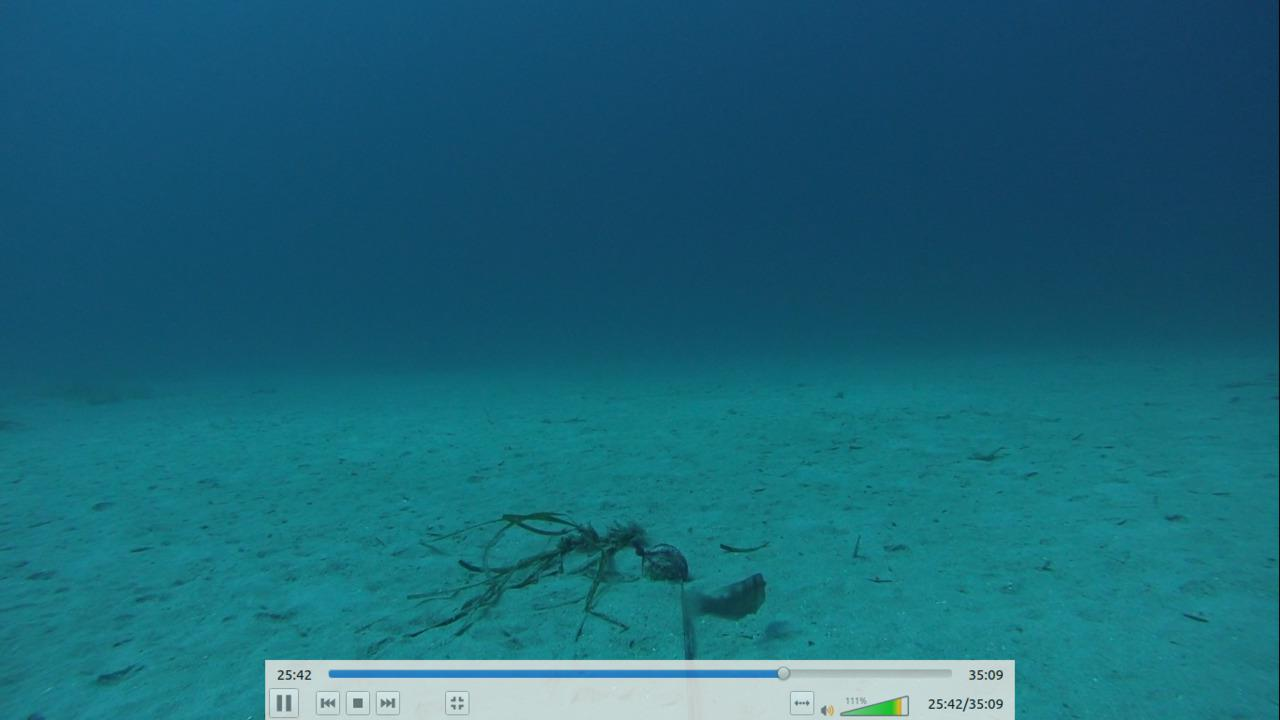raor: (688, 571, 772, 624)
